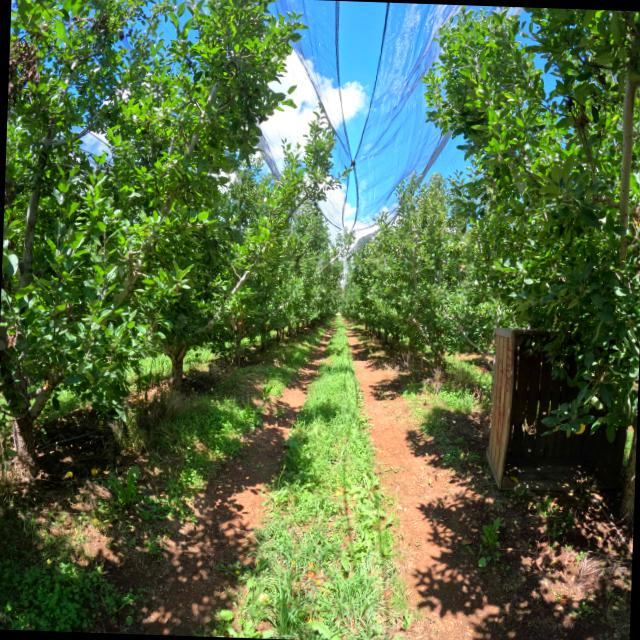-FireBlight-: (7, 31, 41, 113), (67, 13, 134, 39)
